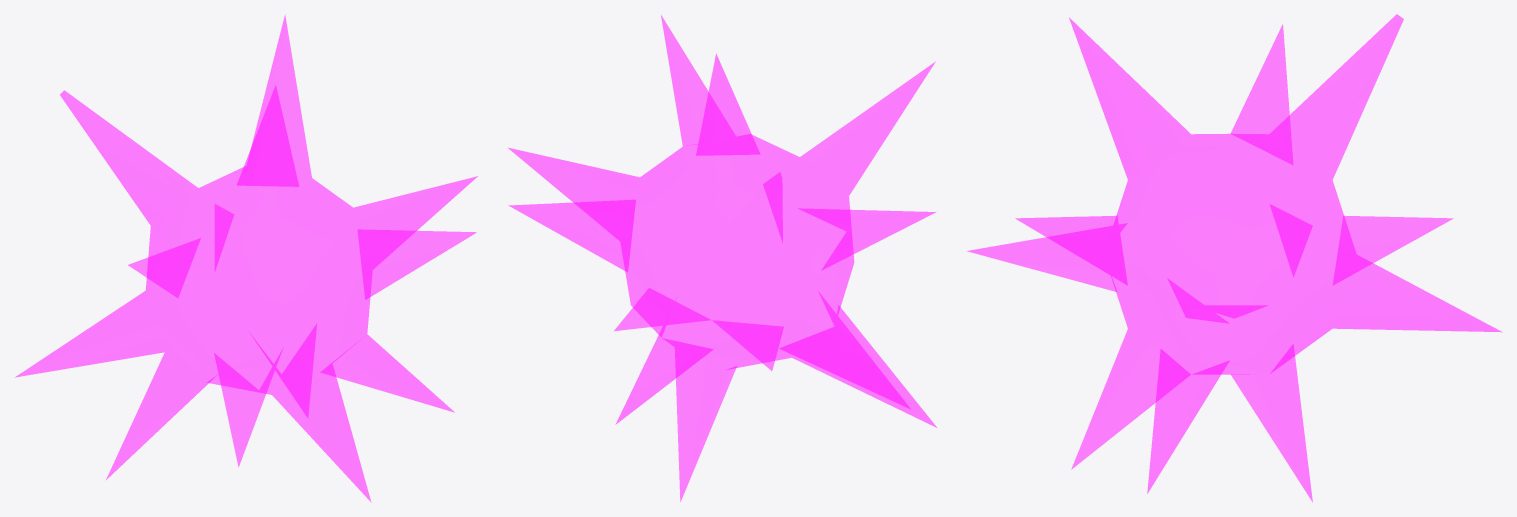
Rendered from nexus.fbx.
3 renders of one model, left to right at view 1: azimuth 30°, elevation 25°; view 2: azimuth 150°, elevation 25°; view 3: azimuth 270°, elevation 25°, orthographic. The views are drawn at different scales.
Visible parts, largest first — view 1: Icosphere; view 2: Icosphere; view 3: Icosphere.
Part boxes in pixels (bbox=[...]): Icosphere: bbox=[15, 14, 477, 502]; Icosphere: bbox=[508, 15, 936, 501]; Icosphere: bbox=[967, 14, 1501, 502].
Size of the model in its own units: 127 by 129 by 127.
